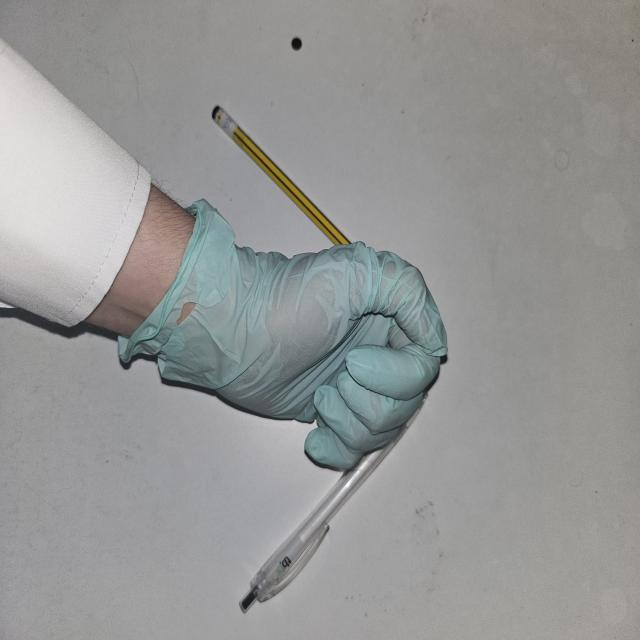gloves_damaged: (118, 197, 447, 472)
